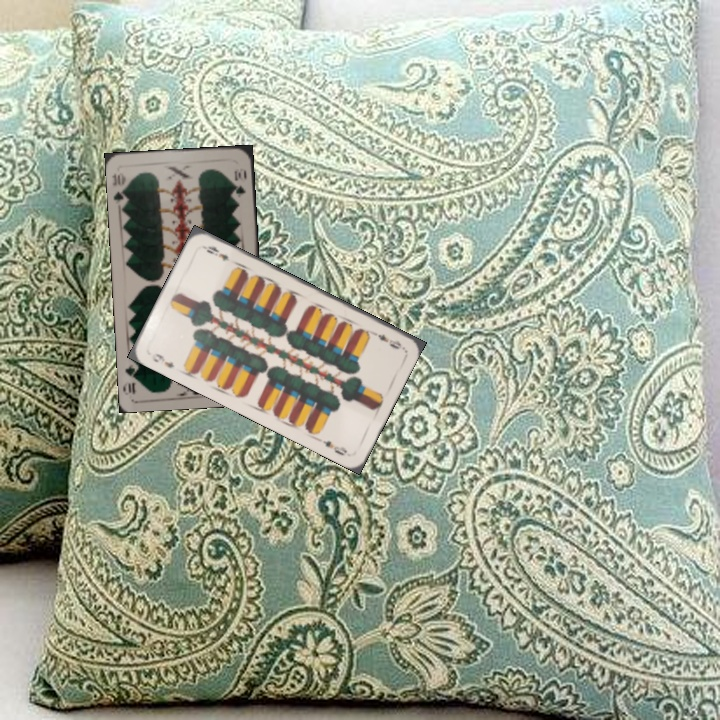E9: (367, 327, 404, 352), (147, 349, 177, 371)
G10: (109, 168, 130, 207)
